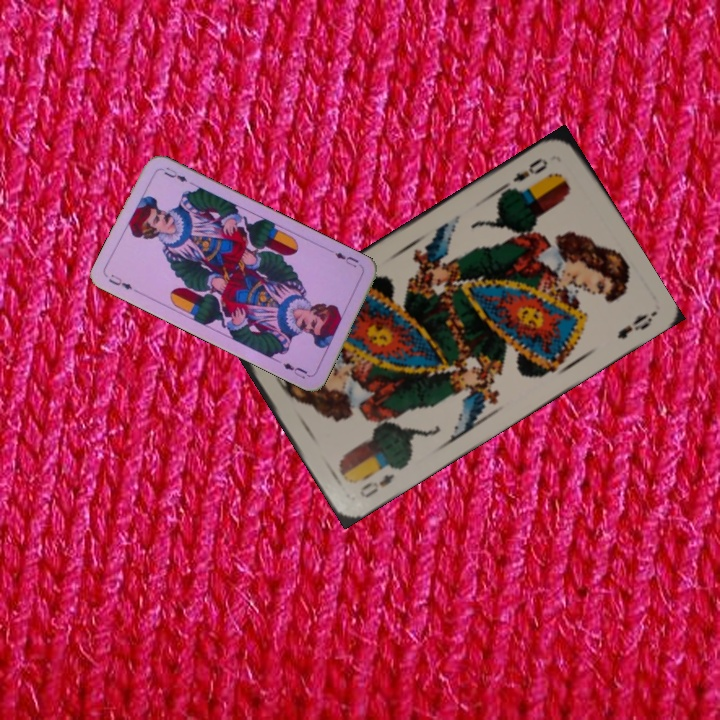EO: (355, 469, 398, 501), (508, 154, 551, 185)
EU: (327, 248, 365, 271), (104, 270, 135, 293)
